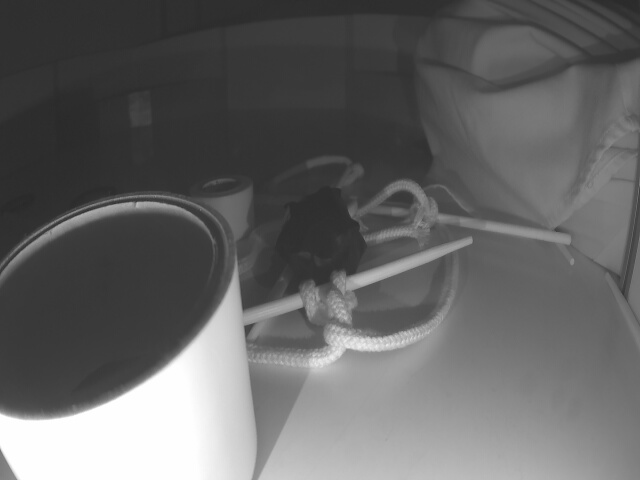Dead: (281, 191, 370, 284)
Point: (91, 76, 224, 137), (346, 70, 434, 128)
